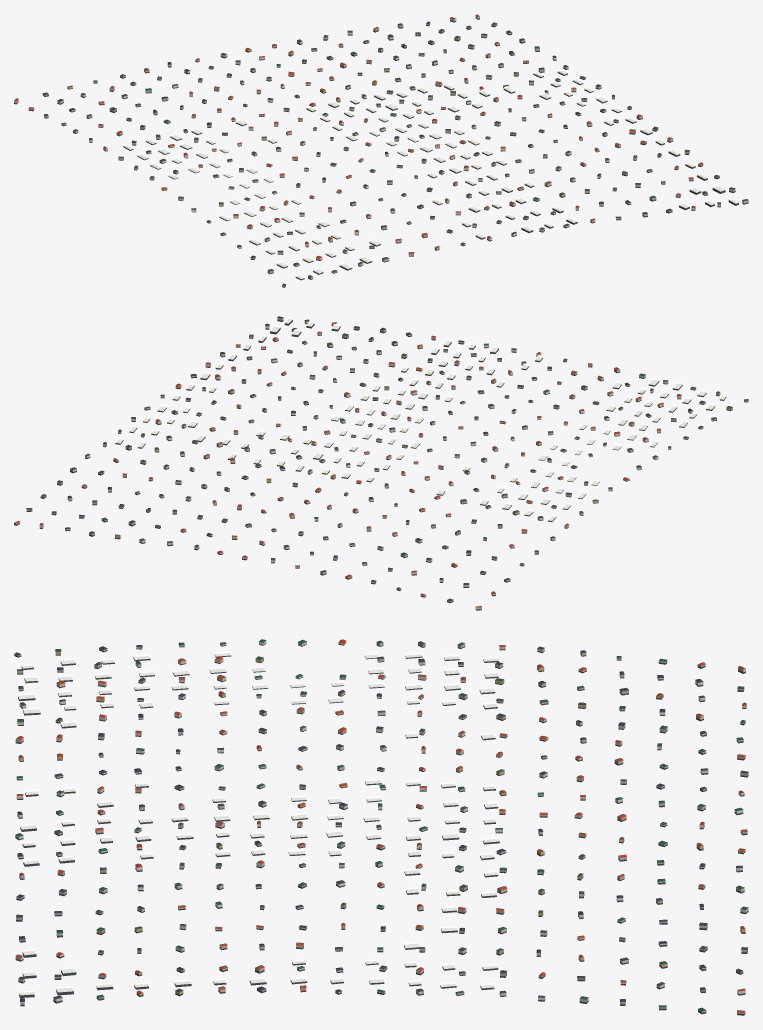
The model's file is buildings_T_E00_N06.glb.
3 views of the same model, one above another, from view 1: azimuth 30°, elevation 25°; view 2: azimuth 150°, elevation 25°; view 3: azimuth 270°, elevation 25° (orthographic). The views are drawn at different scales.
Visible parts, largest first — view 1: T_E00_N06_slope_seating_foundations, T_E00_N06_roofs_agri_greenhouse_arch, T_E00_N06_roofs_roof_slate_French_villa_hip, T_E00_N06_roofs_roof_pine_green_hip, T_E00_N06_roofs_roof_terracotta_gable, T_E00_N06_walls_wall_dalat_cream_stucco, T_E00_N06_walls_wall_pastel_sand_gray, T_E00_N06_walls_wall_modern_warm_white, T_E00_N06_walls_wall_french_ochre_villa; view 2: T_E00_N06_slope_seating_foundations, T_E00_N06_roofs_agri_greenhouse_arch, T_E00_N06_roofs_roof_slate_French_villa_hip, T_E00_N06_roofs_roof_pine_green_hip, T_E00_N06_roofs_roof_terracotta_gable, T_E00_N06_walls_wall_dalat_cream_stucco, T_E00_N06_walls_wall_modern_warm_white, T_E00_N06_walls_wall_pastel_sand_gray, T_E00_N06_walls_wall_french_ochre_villa; view 3: T_E00_N06_slope_seating_foundations, T_E00_N06_roofs_agri_greenhouse_arch, T_E00_N06_roofs_roof_slate_French_villa_hip, T_E00_N06_roofs_roof_pine_green_hip, T_E00_N06_roofs_roof_terracotta_gable, T_E00_N06_walls_wall_dalat_cream_stucco, T_E00_N06_walls_wall_pastel_sand_gray, T_E00_N06_walls_wall_modern_warm_white, T_E00_N06_walls_wall_french_ochre_villa.
Part boxes in pixels (<box>): T_E00_N06_slope_seating_foundations: <box>14,17,748,287</box>; T_E00_N06_roofs_agri_greenhouse_arch: <box>123,69,738,279</box>; T_E00_N06_roofs_roof_slate_French_villa_hip: <box>57,21,748,285</box>; T_E00_N06_roofs_roof_pine_green_hip: <box>43,22,719,277</box>; T_E00_N06_roofs_roof_terracotta_gable: <box>14,14,702,258</box>; T_E00_N06_walls_wall_dalat_cream_stucco: <box>14,16,748,266</box>; T_E00_N06_walls_wall_pastel_sand_gray: <box>28,23,719,272</box>; T_E00_N06_walls_wall_modern_warm_white: <box>44,18,735,253</box>; T_E00_N06_walls_wall_french_ochre_villa: <box>42,23,707,286</box>; T_E00_N06_slope_seating_foundations: <box>14,319,748,610</box>; T_E00_N06_roofs_agri_greenhouse_arch: <box>115,317,726,520</box>; T_E00_N06_roofs_roof_slate_French_villa_hip: <box>52,316,748,584</box>; T_E00_N06_roofs_roof_pine_green_hip: <box>26,333,732,601</box>; T_E00_N06_roofs_roof_terracotta_gable: <box>15,322,681,607</box>; T_E00_N06_walls_wall_dalat_cream_stucco: <box>14,317,716,609</box>; T_E00_N06_walls_wall_modern_warm_white: <box>39,326,703,586</box>; T_E00_N06_walls_wall_pastel_sand_gray: <box>65,327,696,595</box>; T_E00_N06_walls_wall_french_ochre_villa: <box>26,330,748,601</box>; T_E00_N06_slope_seating_foundations: <box>14,642,748,1015</box>; T_E00_N06_roofs_agri_greenhouse_arch: <box>18,651,499,995</box>; T_E00_N06_roofs_roof_slate_French_villa_hip: <box>14,645,748,1001</box>; T_E00_N06_roofs_roof_pine_green_hip: <box>15,639,748,1011</box>; T_E00_N06_roofs_roof_terracotta_gable: <box>16,639,747,1012</box>; T_E00_N06_walls_wall_dalat_cream_stucco: <box>15,641,747,1013</box>; T_E00_N06_walls_wall_pastel_sand_gray: <box>15,642,748,998</box>; T_E00_N06_walls_wall_modern_warm_white: <box>15,641,748,1001</box>; T_E00_N06_walls_wall_french_ochre_villa: <box>14,641,745,1012</box>.
Bounding box in the file's own units: 1687 × 179 × 1687.
